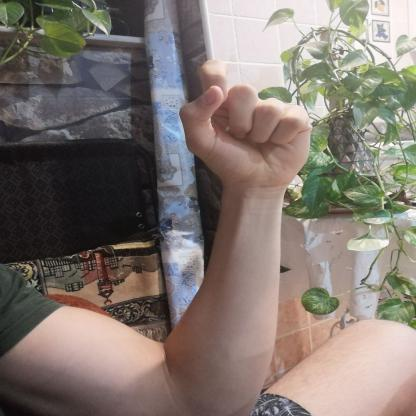FAA: (168, 47, 324, 200)
